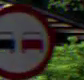No overtake: (0, 6, 55, 79)
